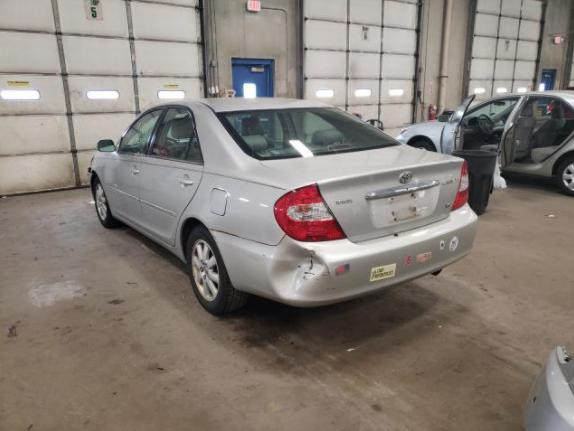Back-bumper: (208, 201, 478, 308)
Back-door: (140, 106, 204, 245)
Back-wheel: (187, 224, 250, 316)
Back-window: (149, 107, 203, 164)
Back-windshield: (214, 107, 402, 159)
Fender: (91, 151, 114, 216)
Front-bumper: (88, 168, 92, 194)
Front-door: (107, 106, 167, 226)
Front-wheel: (93, 176, 121, 228)
Front-window: (119, 110, 162, 153)
Mirror: (97, 139, 119, 152)
Quarter-panel: (174, 160, 317, 263)
Rocker-panel: (113, 211, 177, 255)
Roof: (163, 97, 335, 112)
Tail-light: (274, 183, 347, 241), (451, 159, 469, 210), (335, 265, 346, 275)
Trunk: (260, 145, 464, 242)
